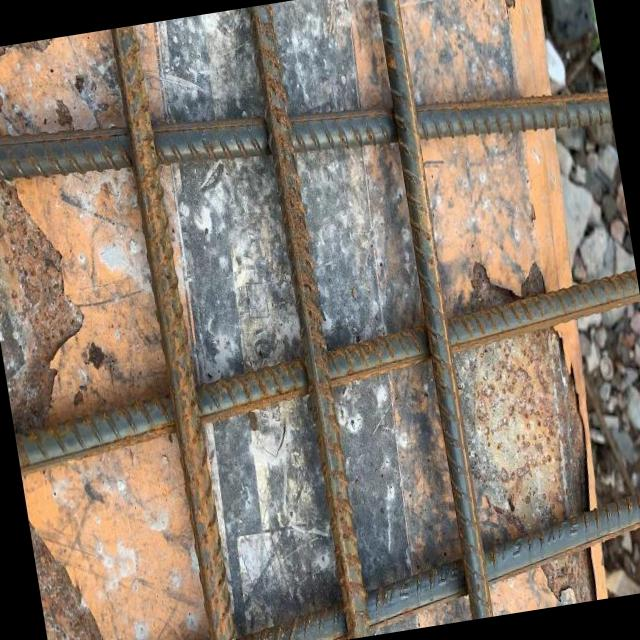ribbed bar: (4, 267, 640, 479), (0, 36, 613, 227), (245, 5, 371, 640), (370, 0, 497, 620), (111, 26, 237, 640), (220, 481, 640, 640)
